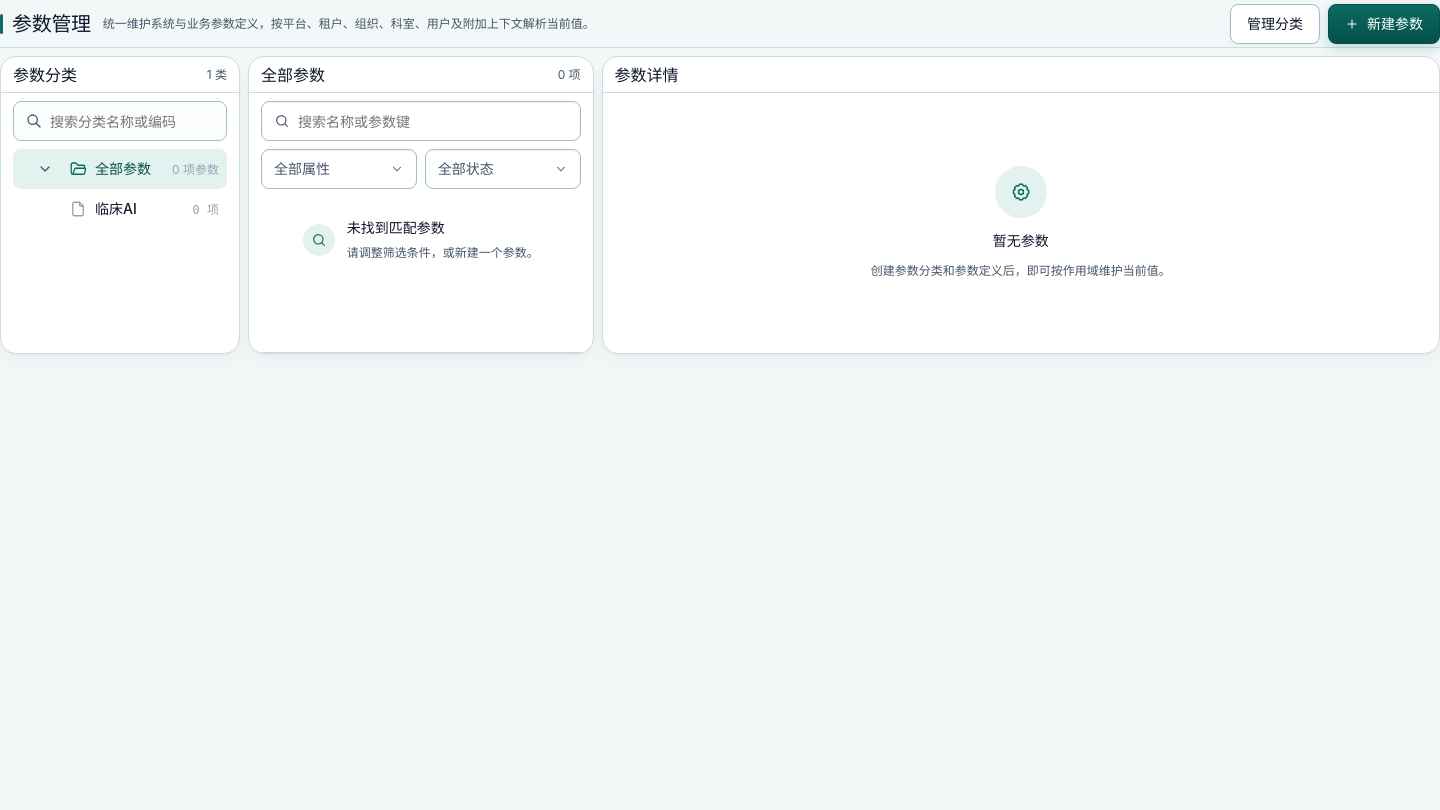
Test: ParameterManagement category write facts › locks a pending form and ignores a response after a work-context switch
Click the button "管理分类" at coordinates (1275, 24), box [1230,4,1320,44]
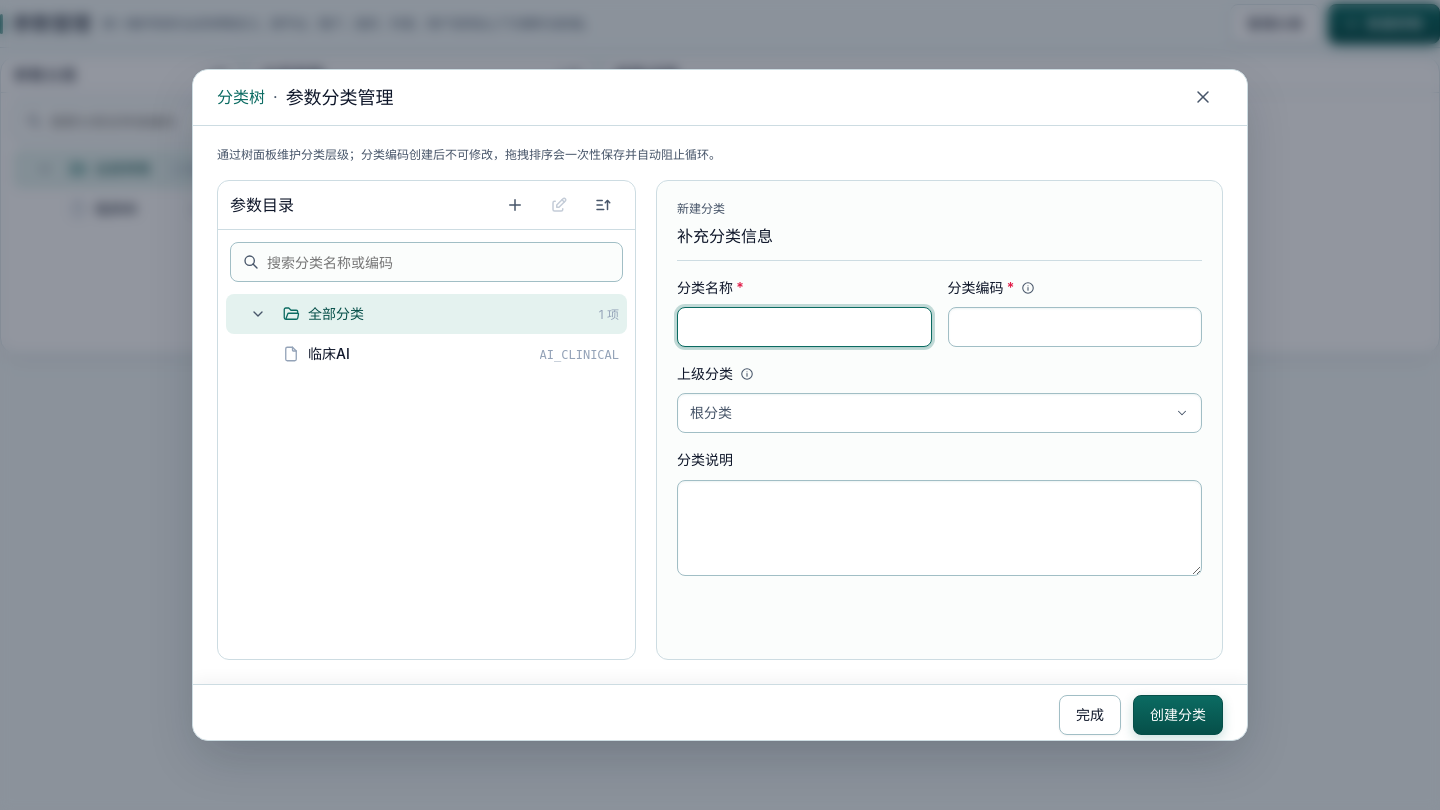
Click the list item "临床AI AI_CLINICAL" at coordinates (329, 354), box [282,345,619,363]
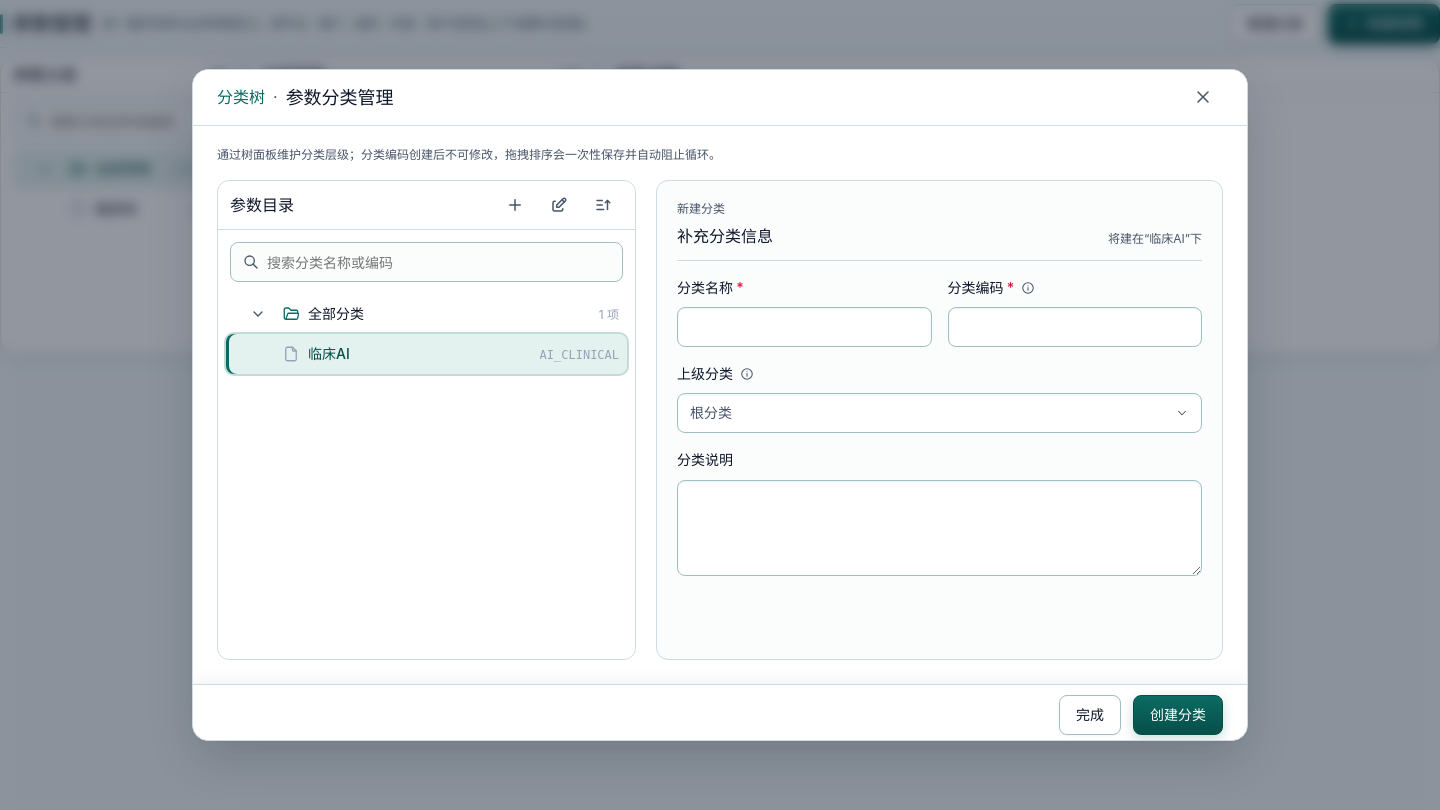
Click the button named "编辑节点" at coordinates (559, 205), box [539,185,579,225]
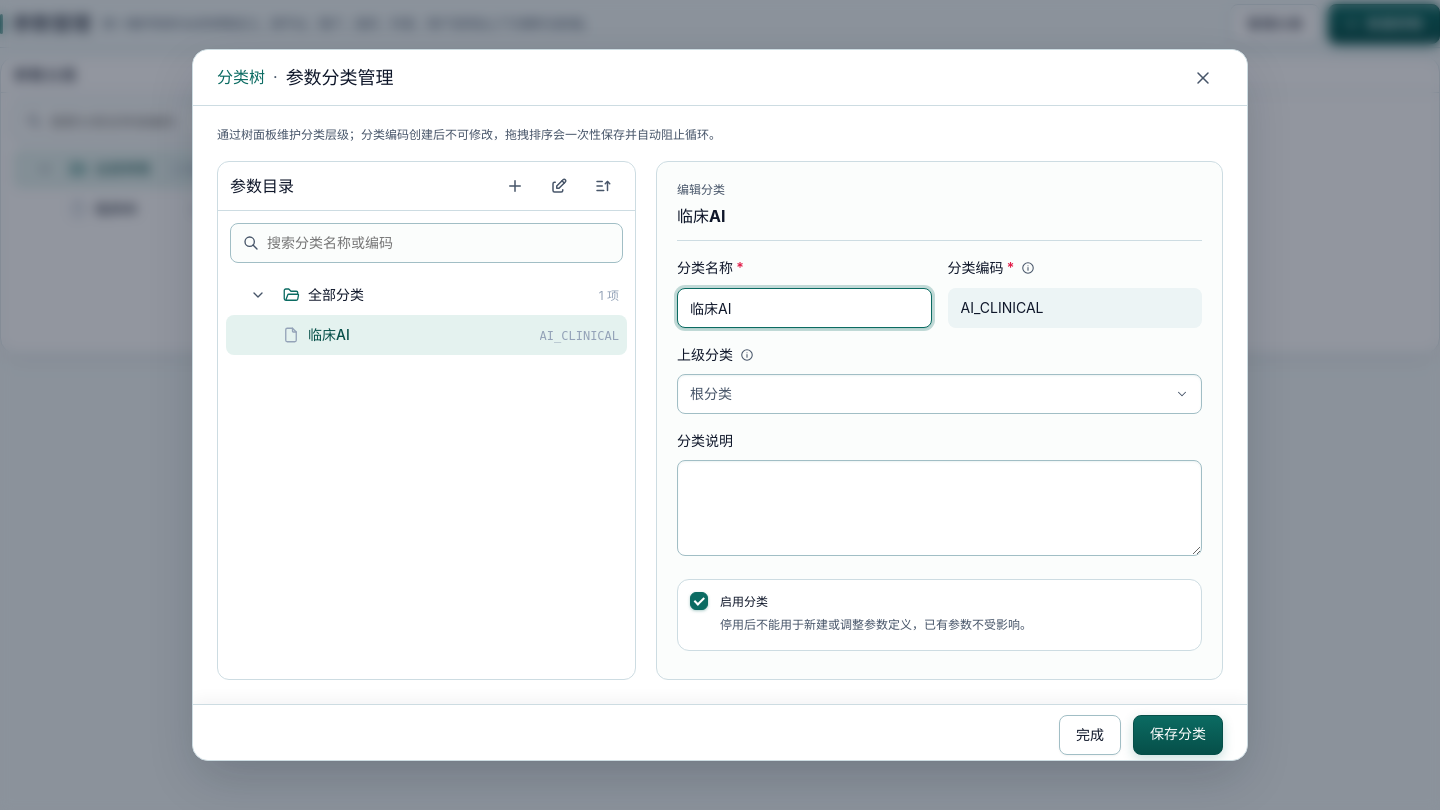
Replace the text in the field labelled "分类名称*" with "修订后的分类" at coordinates (804, 308), box [677,288,932,328]
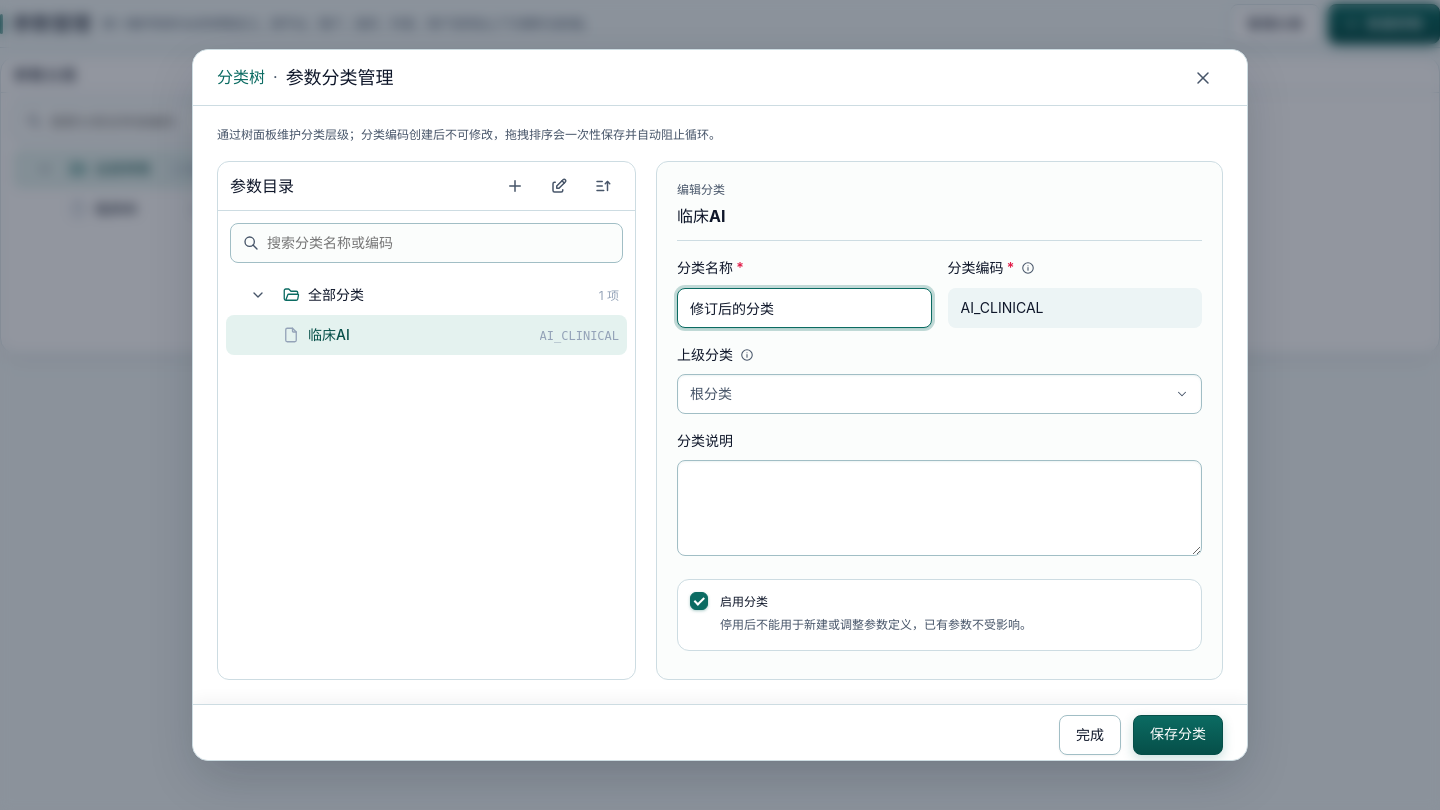
Click the button "保存分类" at coordinates (1178, 734), box [1133,714,1223,754]
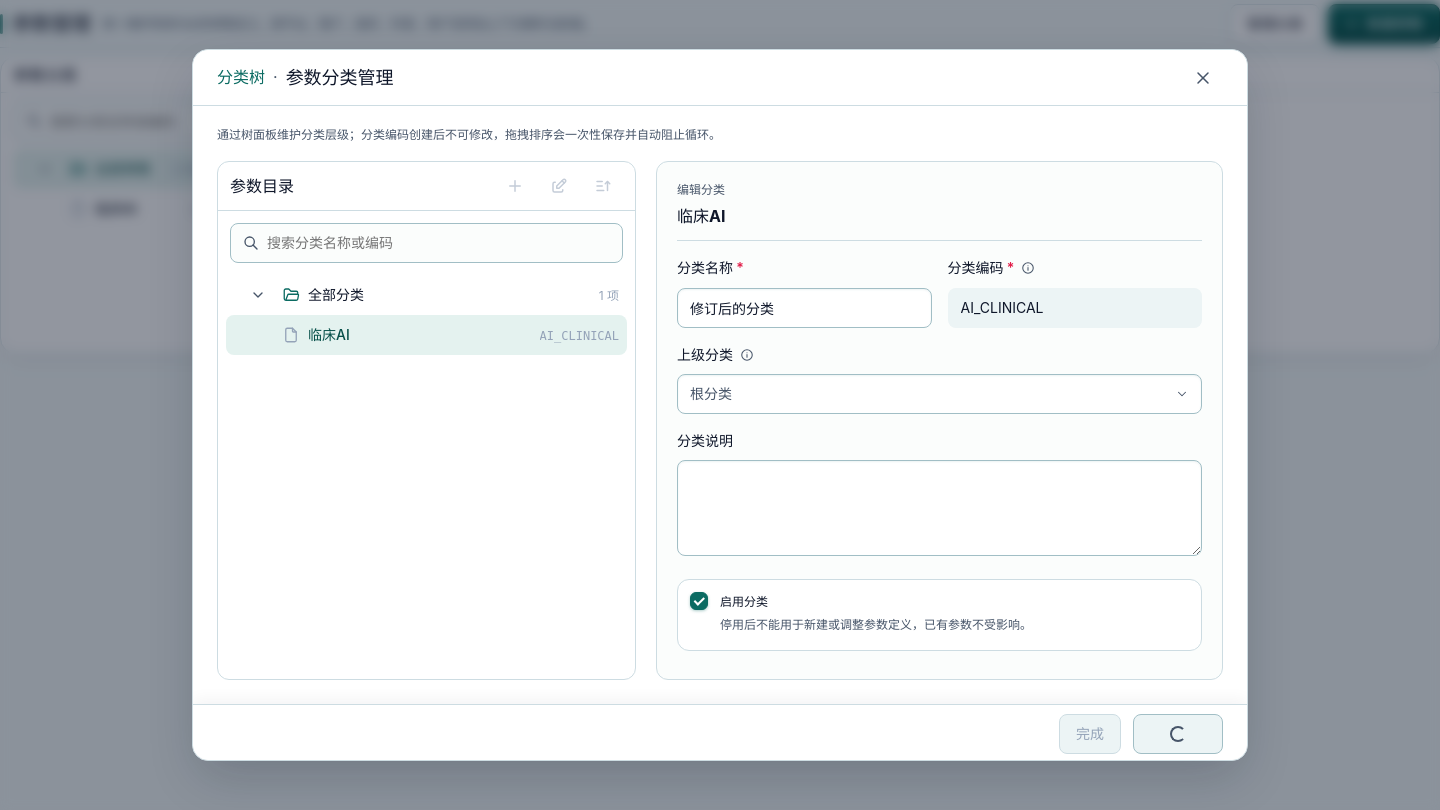
Now the button "完成" is disabled, box [1059,714,1121,754]
